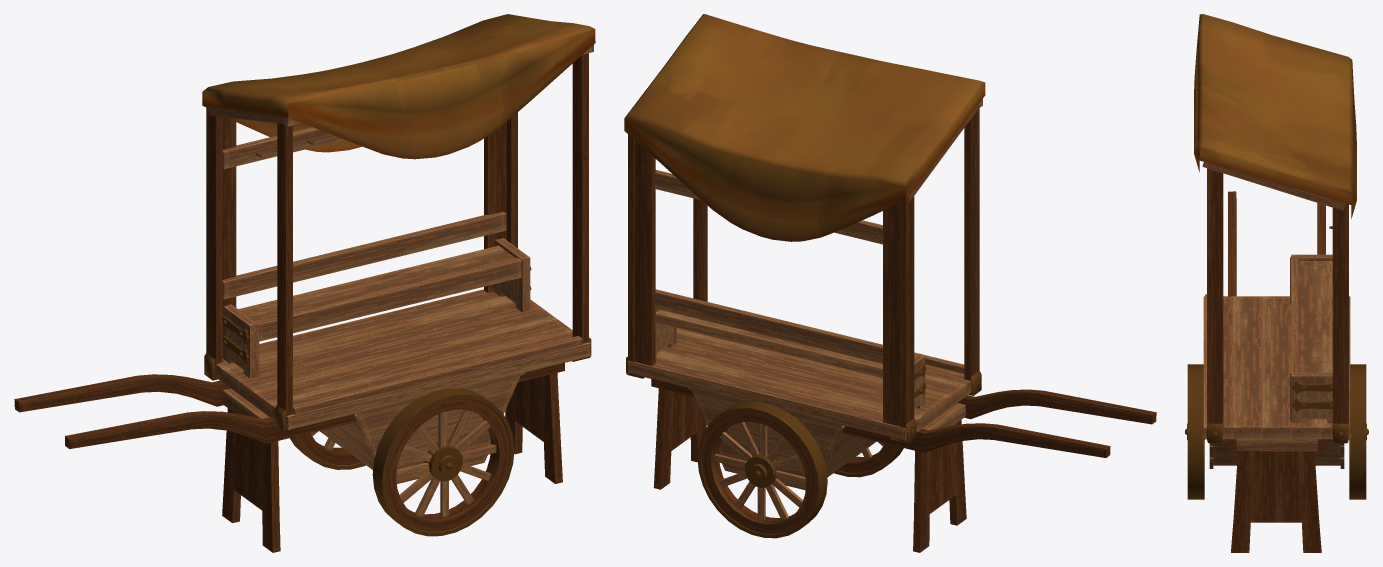
The model's file is Stall Cart Empty.glb.
3 renders of one model, left to right at view 1: azimuth 30°, elevation 25°; view 2: azimuth 150°, elevation 25°; view 3: azimuth 270°, elevation 25°, orthographic. The views are drawn at different scales.
Visible parts, largest first — view 1: Stall_Cart_Empty; view 2: Stall_Cart_Empty; view 3: Stall_Cart_Empty.
Boxes of the visible parts, x1,y1,x2,y2 form: Stall_Cart_Empty: [14, 14, 595, 552]; Stall_Cart_Empty: [624, 14, 1156, 552]; Stall_Cart_Empty: [1185, 14, 1368, 552].
Size of the model in its own units: 3.02 by 2.63 by 1.06.
3 materials, 3 textured.
